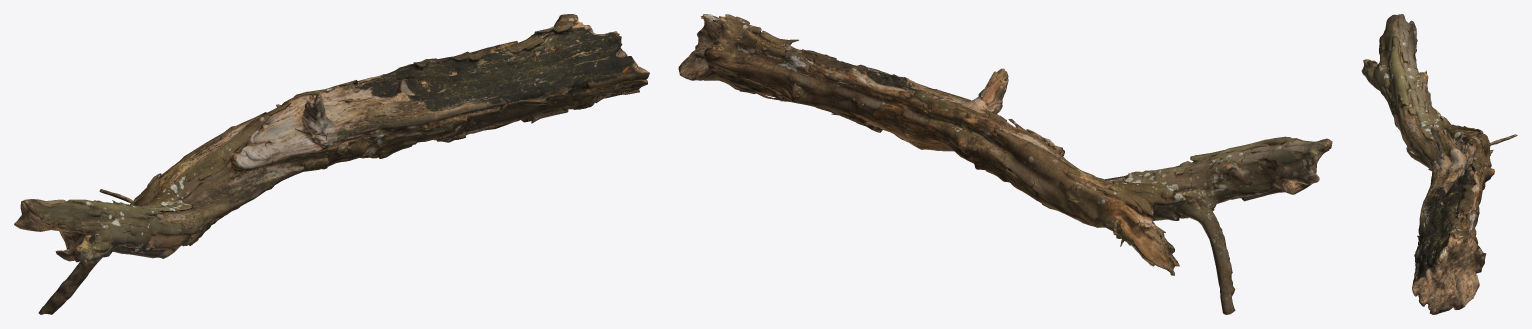
The model's file is dead_tree_trunk_02_lod1.glb.
3 renders of one model, left to right at view 1: azimuth 30°, elevation 25°; view 2: azimuth 150°, elevation 25°; view 3: azimuth 270°, elevation 25°, orthographic. The views are drawn at different scales.
Visible parts, largest first — view 1: dead_tree_trunk_02; view 2: dead_tree_trunk_02; view 3: dead_tree_trunk_02.
Part boxes in pixels (box(x1,y1,x2,y2)): dead_tree_trunk_02: box(14, 14, 649, 314); dead_tree_trunk_02: box(678, 14, 1332, 314); dead_tree_trunk_02: box(1361, 14, 1517, 314).
Size of the model in its own units: 4.05 by 1.05 by 1.05.
Materials: 1 (1 with a texture image).
